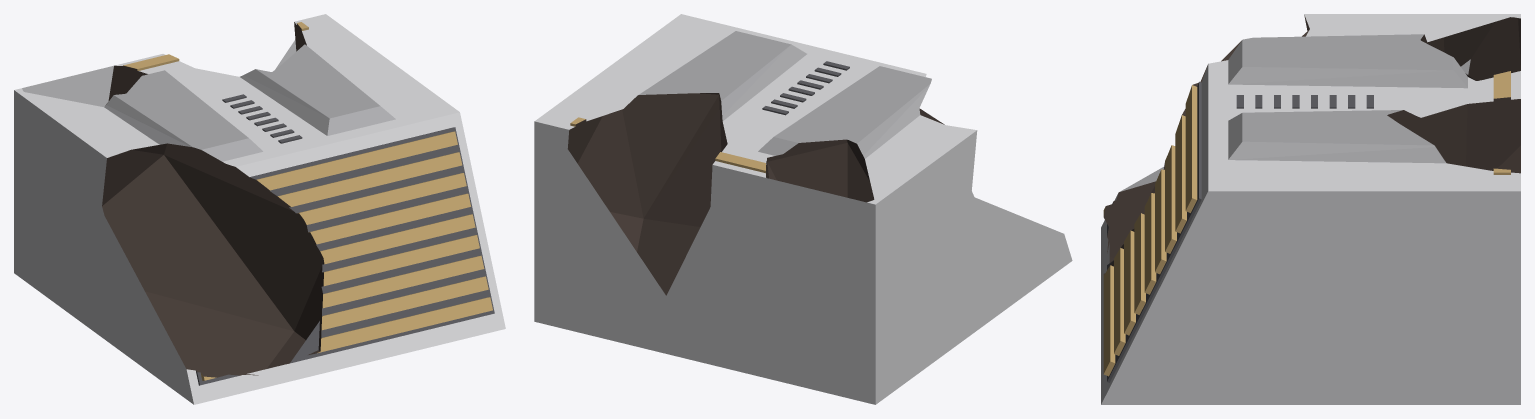
The model's file is vge_d_giantthruster.obj.
The picture shows the model from 3 angles, left to right: view 1: azimuth 30°, elevation 25°; view 2: azimuth 150°, elevation 25°; view 3: azimuth 270°, elevation 25°; orthographic projection. The views are drawn at different scales.
Visible parts, largest first — view 1: vge_d_giantthruster; view 2: vge_d_giantthruster; view 3: vge_d_giantthruster.
Part boxes in pixels (left/top/right/bottom): vge_d_giantthruster: left=14, top=14, right=505, bottom=404; vge_d_giantthruster: left=534, top=14, right=1072, bottom=404; vge_d_giantthruster: left=1101, top=14, right=1520, bottom=404.
Bounding box in the file's own units: 2.94 × 1.75 × 2.94.
